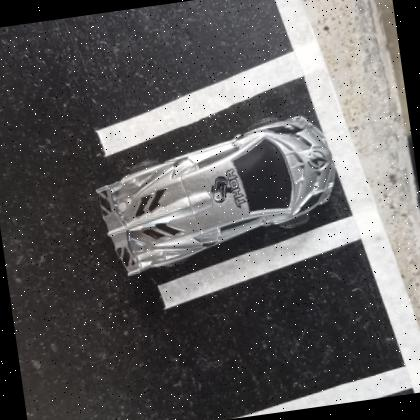Car: (98, 117, 338, 278)
